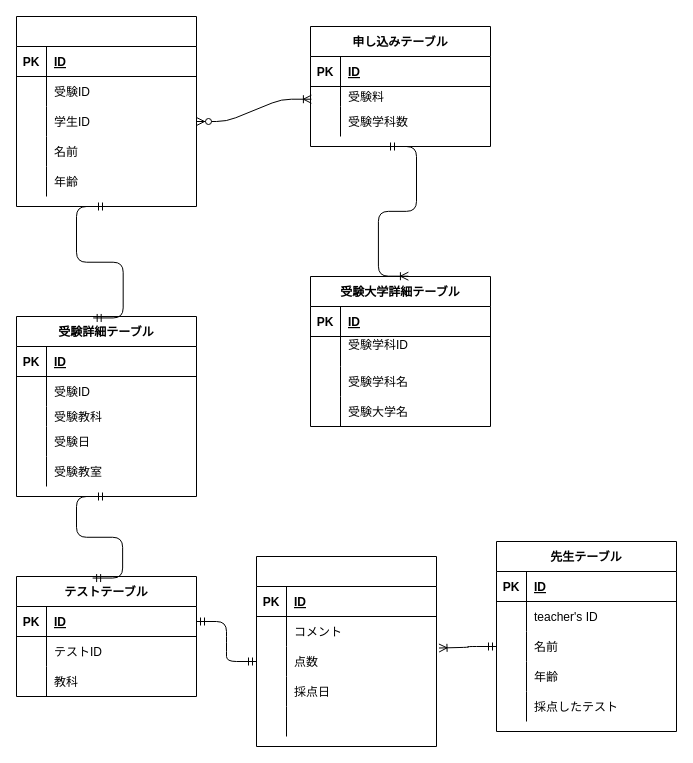
Image size: 693x763. Some labels were removed from this diagram. Here are the shapes that lost their labels. From the top down, the box of each, then its label:
(16, 16, 196, 206): 学生テーブル
(256, 556, 436, 746): 採点テーブル
